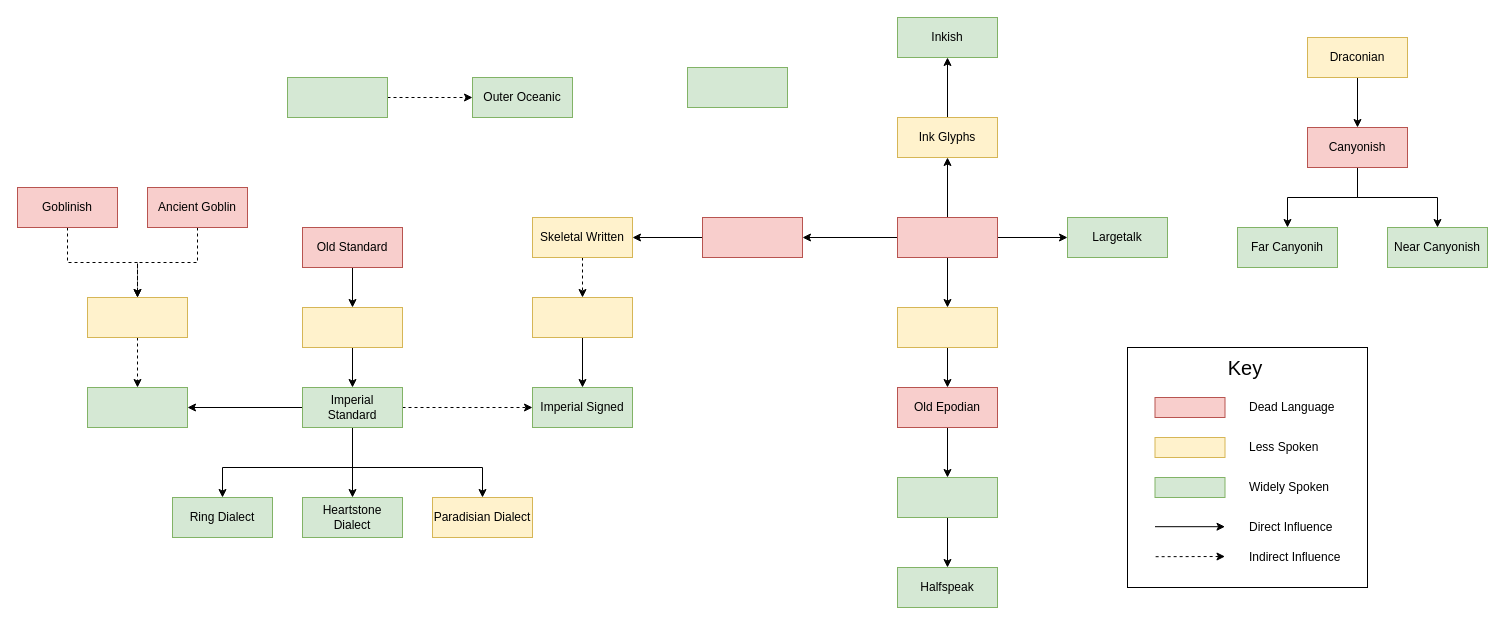
This 1505x625 diagram has some shape labels left out. Here are the shapes that lost their labels. From the top down, the box of each, then its label:
(286, 76, 388, 118): Oceanic
(686, 66, 788, 108): Taloni
(702, 216, 802, 258): Ancient
(896, 216, 998, 258): God Whispers
(86, 296, 188, 338): Goblin
(302, 306, 402, 348): Royal Standard
(532, 296, 632, 338): Skeletal Signed
(896, 306, 998, 348): Tree Speak
(86, 386, 188, 428): Goblin Standard
(896, 476, 998, 518): Epodian Common
